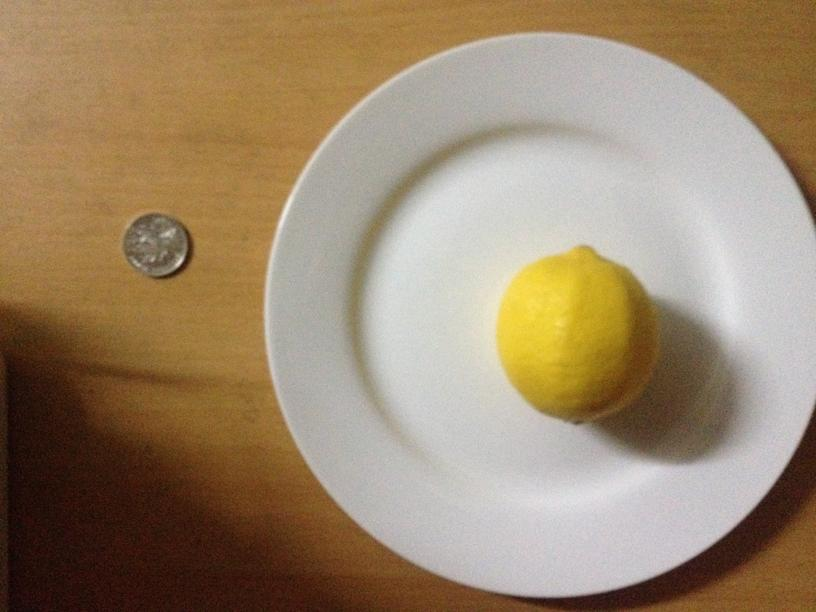coin: (120, 211, 189, 280)
lemon: (498, 245, 656, 424)
